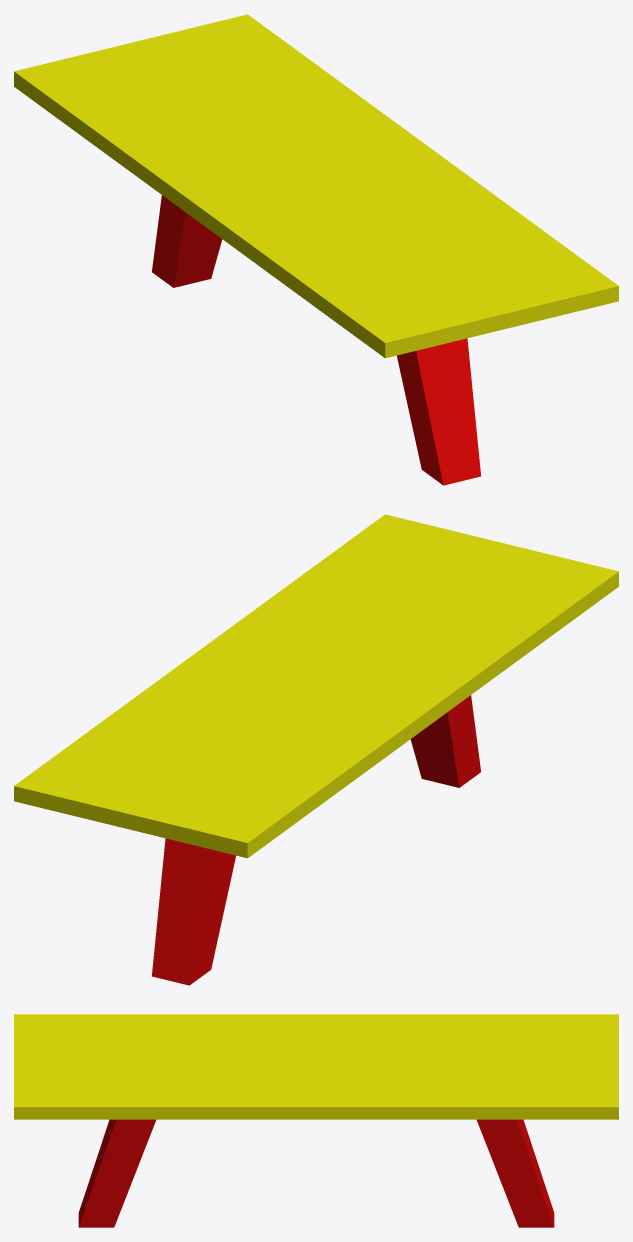
Rendered from LoungeTableB_SM.fbx.
3 views of the same model, one above another, from view 1: azimuth 30°, elevation 25°; view 2: azimuth 150°, elevation 25°; view 3: azimuth 270°, elevation 25° (orthographic). The views are drawn at different scales.
Parts seen in each view (by area): view 1: pCube4; view 2: pCube4; view 3: pCube4.
Part boxes in pixels (<box>): pCube4: <box>14,14,618,485</box>; pCube4: <box>14,514,618,985</box>; pCube4: <box>14,1014,618,1227</box>.
Size of the model in its own units: 4 by 3.2 by 11.
